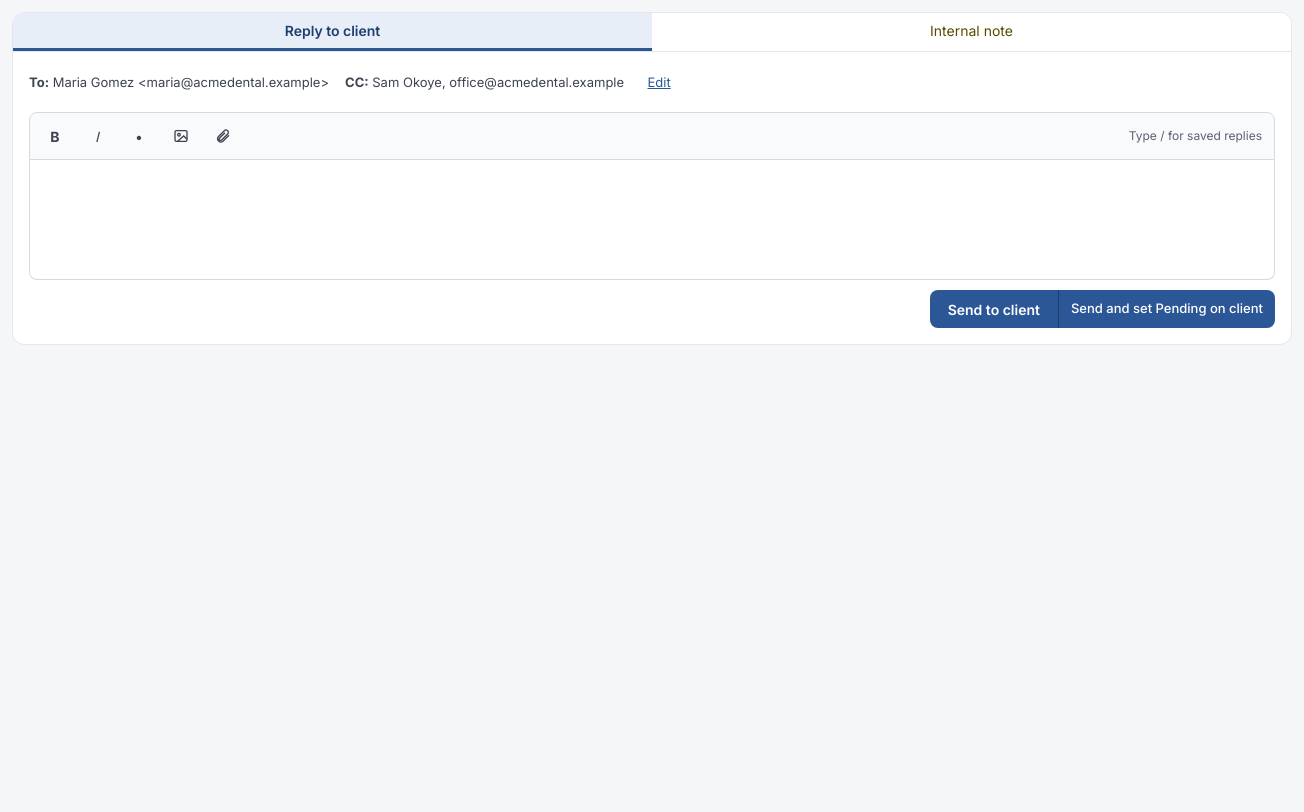
it: Reply CC line and editor (ADR-035) › cancelling the outside-address question adds nothing
This screenshot has width=1304, height=812.
Step 1. Click the button with aria-label "Edit CC" → (659, 83), box top-left (640, 64), bottom-right (678, 102)
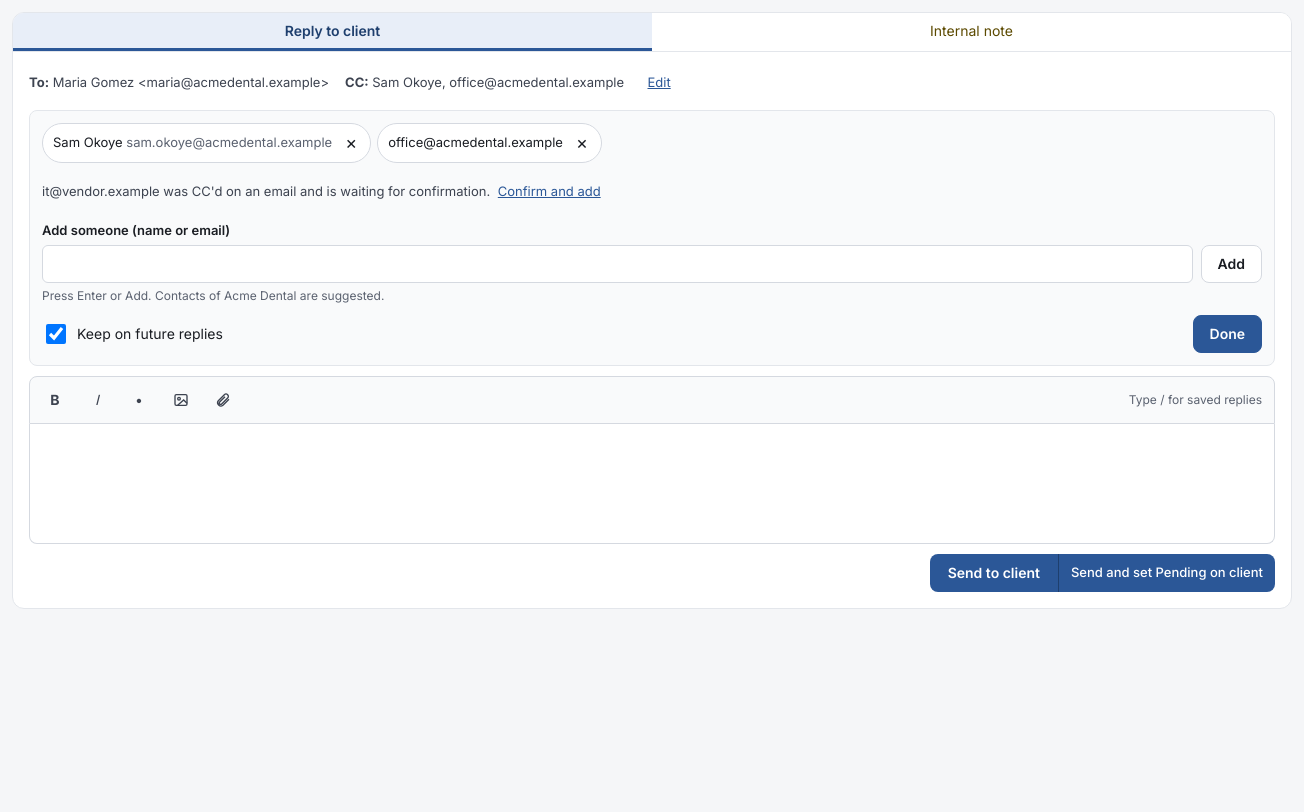
Step 2. Type "pat@outside.example" into the dropdown labelled "Add someone (name or email)" → (617, 264), box top-left (42, 244), bottom-right (1192, 282)
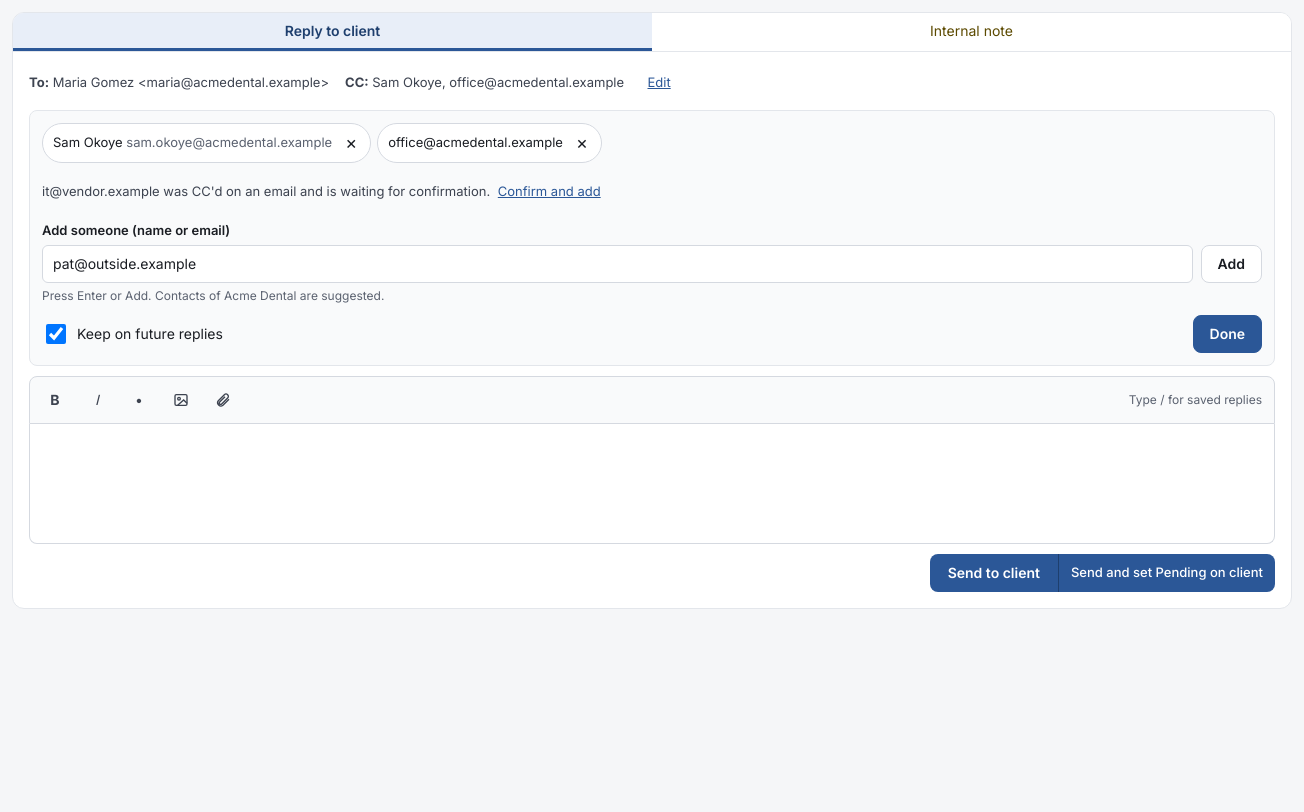
Step 3. Press Enter in the dropdown labelled "Add someone (name or email)", box top-left (42, 244), bottom-right (1192, 282)
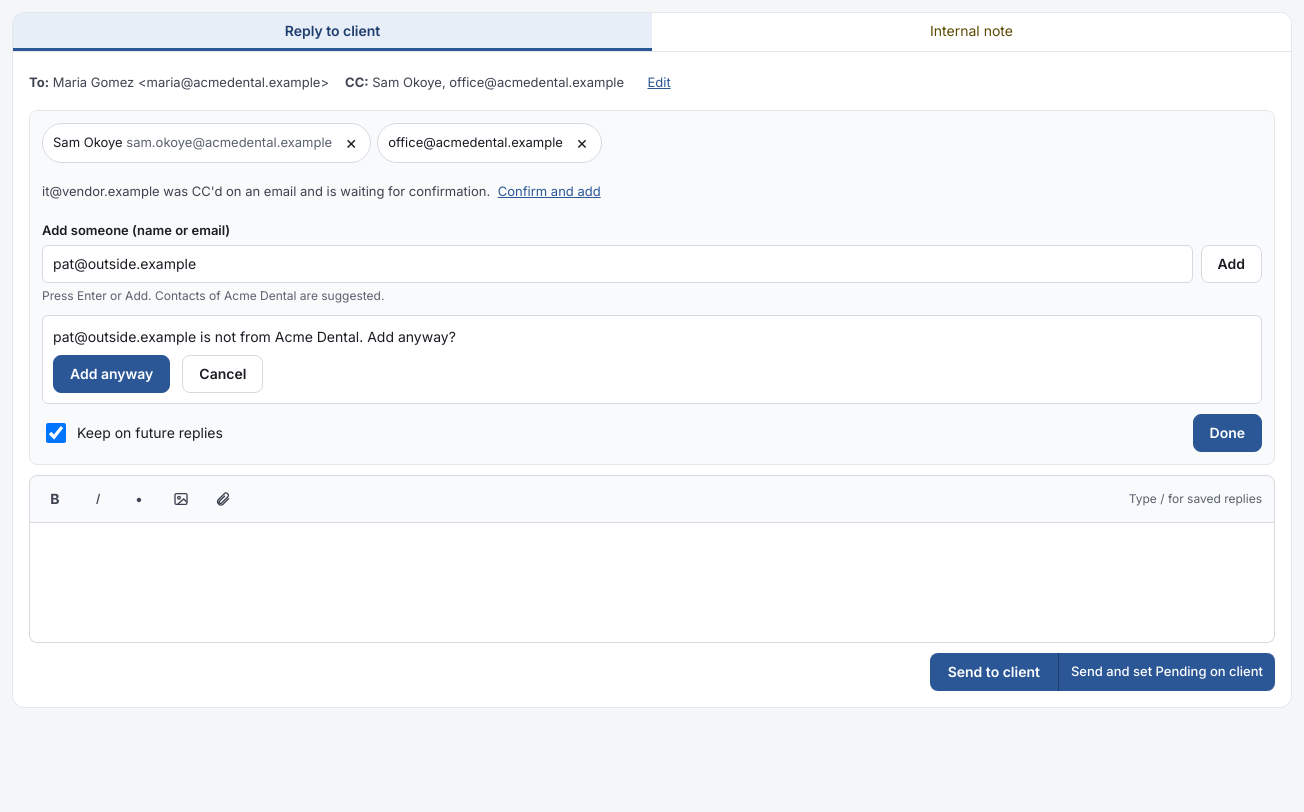
Step 4. Click the button "Cancel" → (223, 374), box top-left (182, 354), bottom-right (263, 392)
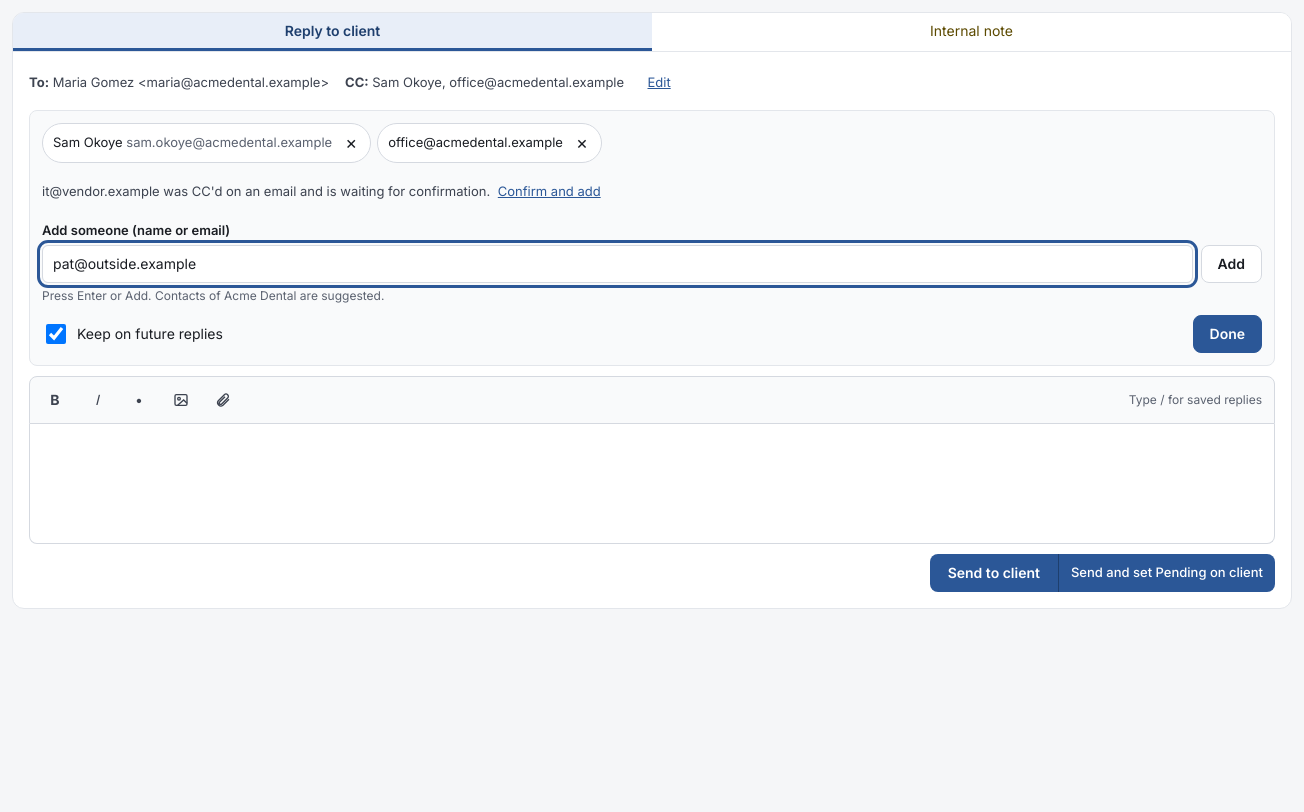
Expected: the message "pat@outside.example is not from Acme Dental. Add anyway? Add anyway Cancel" is gone
